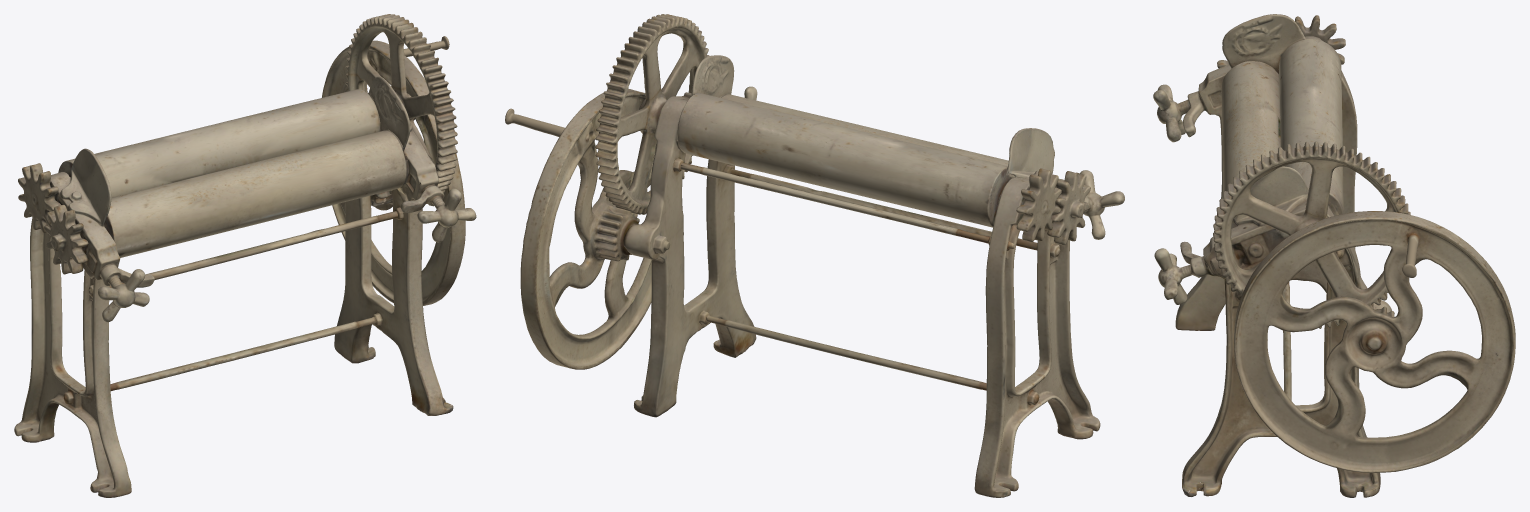
Rendered from 铸铁橡胶铰（挤出压片机）.glb.
3 renders of one model, left to right at view 1: azimuth 30°, elevation 25°; view 2: azimuth 150°, elevation 25°; view 3: azimuth 270°, elevation 25°, orthographic. The views are drawn at different scales.
Visible parts, largest first — view 1: defaultobject; view 2: defaultobject; view 3: defaultobject.
Boxes of the visible parts, box(x1,y1,x2,y2) form: defaultobject: box(14, 14, 476, 497); defaultobject: box(505, 14, 1124, 497); defaultobject: box(1153, 14, 1515, 497).
Size of the model in its own units: 353 by 248 by 227.
1 material, 1 textured.
